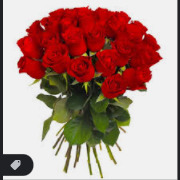RedRose: (11, 29, 46, 59), (43, 44, 72, 78), (15, 53, 43, 83), (71, 55, 98, 85), (94, 45, 121, 73), (125, 60, 148, 90), (59, 28, 89, 51), (102, 70, 124, 97), (86, 26, 110, 50), (113, 35, 136, 60), (136, 40, 157, 64), (110, 11, 132, 31), (41, 15, 63, 34), (130, 20, 147, 40), (78, 8, 95, 25), (96, 3, 110, 23), (63, 11, 77, 31)
